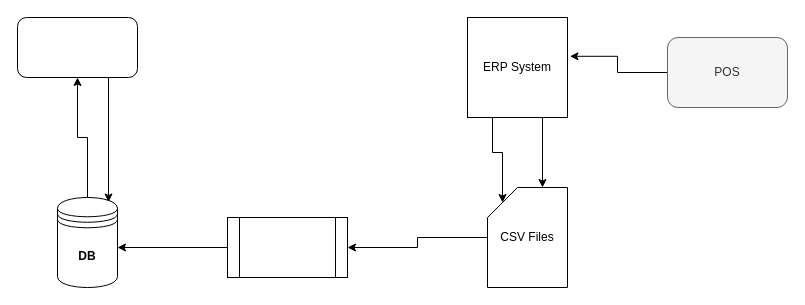
The diagram is 805 pixels wide and 305 high, and some of its shapes have lost their labels. The shapes that lost their labels are listed below. From the top down, each one's centre as x and y in pixels, then its label:
At point 77,47: "Sales Reporting and Visualization".
At point 287,247: "ETL".
